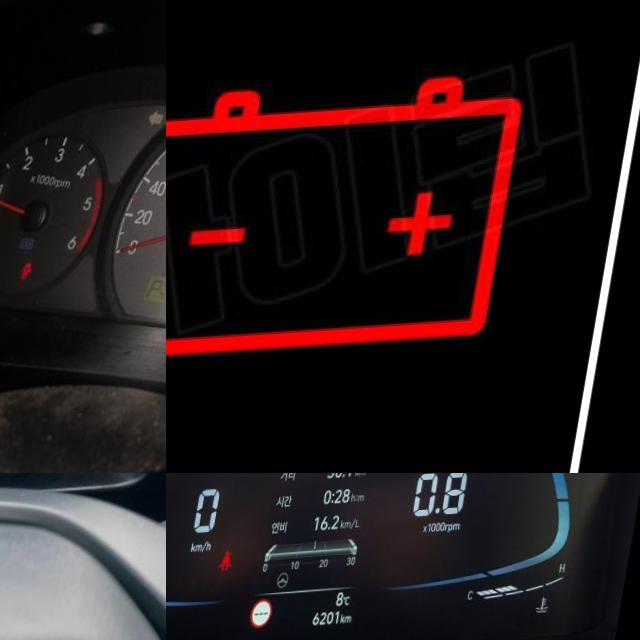Doors: (29, 262, 46, 281)
